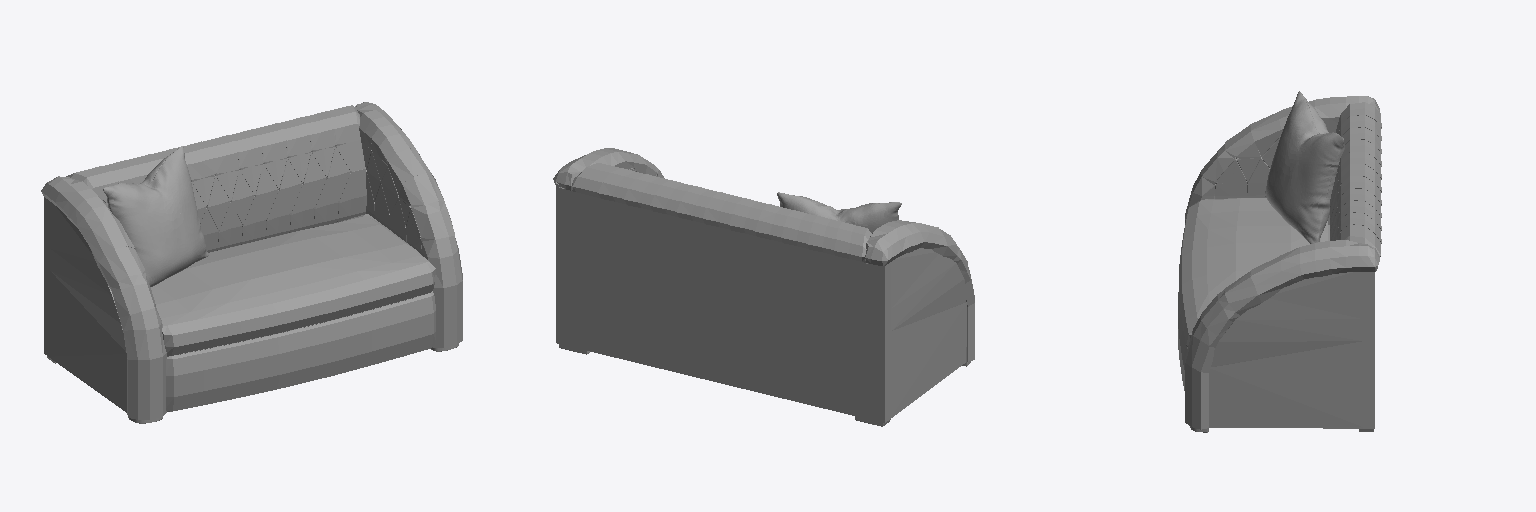
File: roundedsofa.obj
3 renders of one model, left to right at view 1: azimuth 30°, elevation 25°; view 2: azimuth 150°, elevation 25°; view 3: azimuth 270°, elevation 25°, orthographic.
Parts seen in each view (by area): view 1: Box002, Box003, Box005.001, Box001.001, Box004.001, Object03; view 2: Box004.001, Box005.001, Box003, Object03; view 3: Box004.001, Box003, Box002, Object03, Box005.001.
Part boxes in pixels (x1,y1,x2,y2): Box002: (151,214,435,355); Box003: (41,102,462,419); Box005.001: (66,105,366,252); Box001.001: (166,292,435,411); Box004.001: (44,197,126,412); Object03: (103,146,208,286); Box004.001: (556,183,966,422); Box005.001: (572,163,871,263); Box003: (553,148,974,361); Object03: (777,192,901,232); Box004.001: (1209,272,1374,428); Box003: (1185,96,1379,429); Box002: (1179,198,1327,347); Object03: (1265,91,1344,243); Box005.001: (1330,102,1381,256).
Bounding box in the file's own units: 2.61 × 1.44 × 1.37.